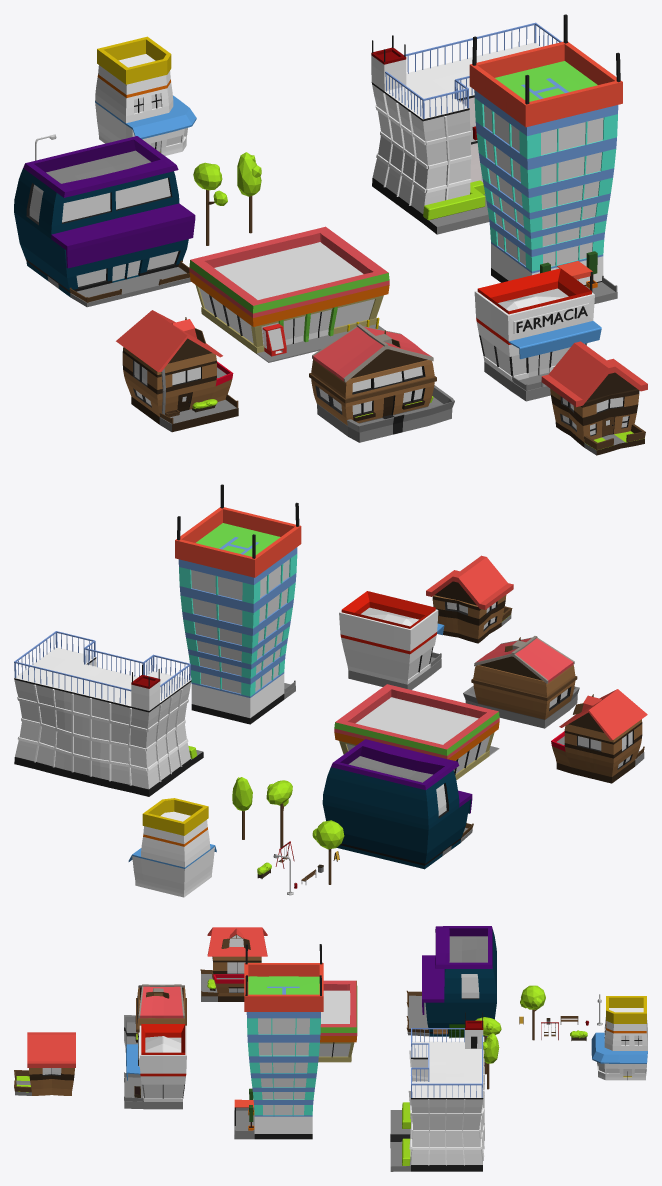
Rendered from City.fbx.
3 renders of one model, top to bottom at view 1: azimuth 30°, elevation 25°; view 2: azimuth 150°, elevation 25°; view 3: azimuth 270°, elevation 25°, orthographic. The views are drawn at different scales.
Parts seen in each view (by area): view 1: Predio, Comercio, Mercado, Hospital, Casa2, Farmacia, Casa1, Esquina, Casa3, Arvore_2, Arvore_3; view 2: Predio, Hospital, Comercio, Mercado, Farmacia, Casa2, Esquina, Casa1, Casa3, arvore_1, Arvore_2, Arvore_3; view 3: Predio, Hospital, Comercio, Farmacia, Esquina, Casa1, Casa3, Mercado, Casa2, arvore_1, Arvore_3.
Boxes of the visible parts, x1=… form: Predio: x1=469, y1=14, x2=622, y2=303; Comercio: x1=14, y1=136, x2=195, y2=307; Mercado: x1=189, y1=226, x2=389, y2=362; Hospital: x1=371, y1=22, x2=561, y2=234; Casa2: x1=309, y1=324, x2=454, y2=442; Farmacia: x1=474, y1=268, x2=601, y2=401; Casa1: x1=116, y1=310, x2=238, y2=432; Esquina: x1=95, y1=36, x2=196, y2=155; Casa3: x1=541, y1=341, x2=647, y2=455; Arvore_2: x1=193, y1=162, x2=227, y2=245; Arvore_3: x1=237, y1=152, x2=261, y2=233; Predio: x1=175, y1=484, x2=301, y2=724; Hospital: x1=14, y1=631, x2=203, y2=796; Comercio: x1=322, y1=739, x2=473, y2=869; Mercado: x1=334, y1=684, x2=499, y2=779; Farmacia: x1=339, y1=591, x2=444, y2=689; Casa2: x1=463, y1=636, x2=579, y2=728; Esquina: x1=128, y1=798, x2=216, y2=897; Casa1: x1=551, y1=689, x2=647, y2=783; Casa3: x1=426, y1=555, x2=513, y2=643; arvore_1: x1=312, y1=820, x2=344, y2=884; Arvore_2: x1=266, y1=780, x2=292, y2=847; Arvore_3: x1=232, y1=777, x2=252, y2=839; Predio: x1=234, y1=944, x2=323, y2=1139; Hospital: x1=390, y1=1012, x2=484, y2=1171; Comercio: x1=406, y1=926, x2=496, y2=1036; Farmacia: x1=124, y1=1024, x2=186, y2=1109; Esquina: x1=591, y1=996, x2=647, y2=1080; Casa1: x1=200, y1=927, x2=267, y2=1001; Casa3: x1=14, y1=1032, x2=75, y2=1095; Mercado: x1=318, y1=980, x2=357, y2=1062; Casa2: x1=124, y1=984, x2=186, y2=1052; arvore_1: x1=520, y1=985, x2=545, y2=1040; Arvore_3: x1=483, y1=1033, x2=499, y2=1089.
Bounding box in the file's own units: 368 × 157 × 498.
